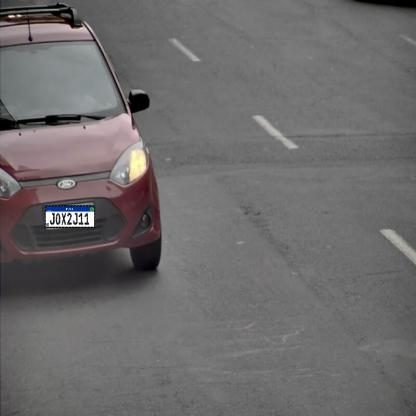PlacaM: (45, 205, 95, 228)
